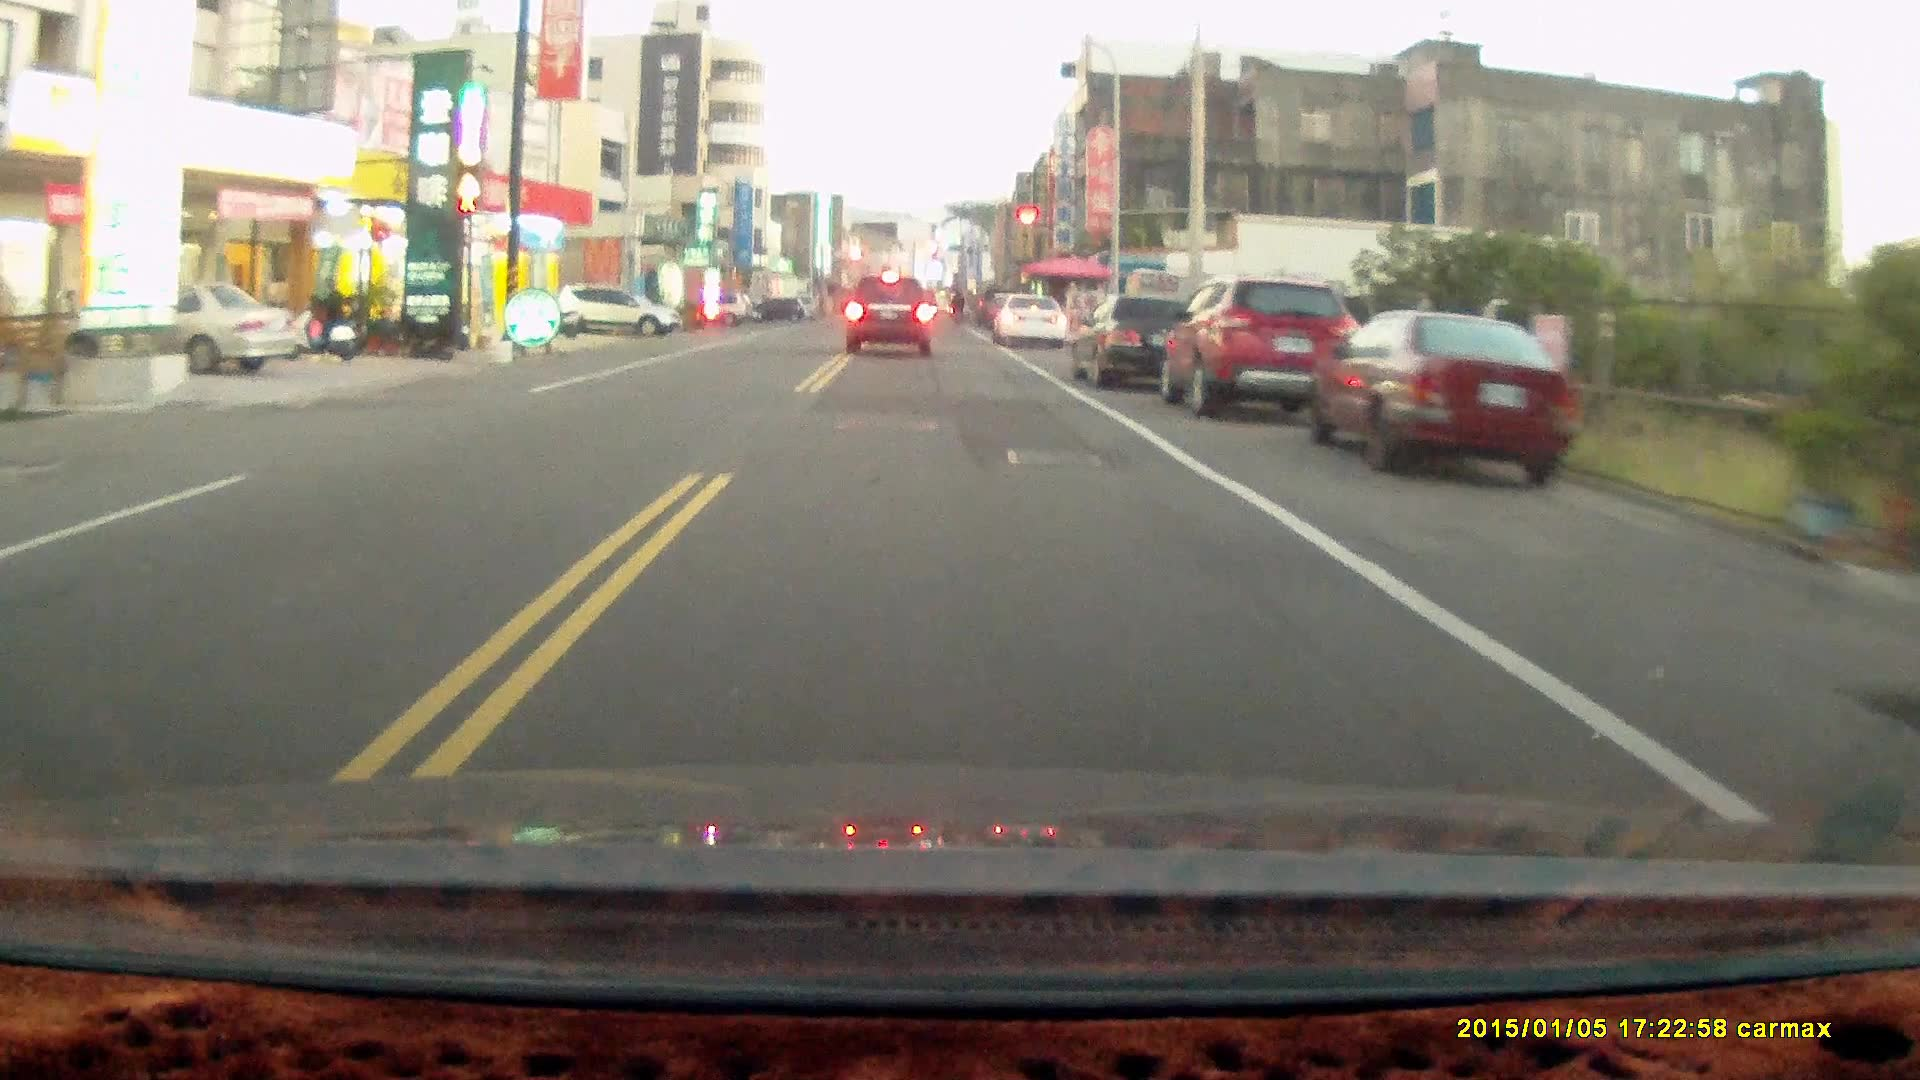vehicle: (1305, 309, 1582, 491), (1166, 276, 1373, 419), (76, 284, 295, 380), (1072, 291, 1211, 388), (847, 277, 938, 360), (556, 286, 683, 342), (994, 295, 1069, 352)
